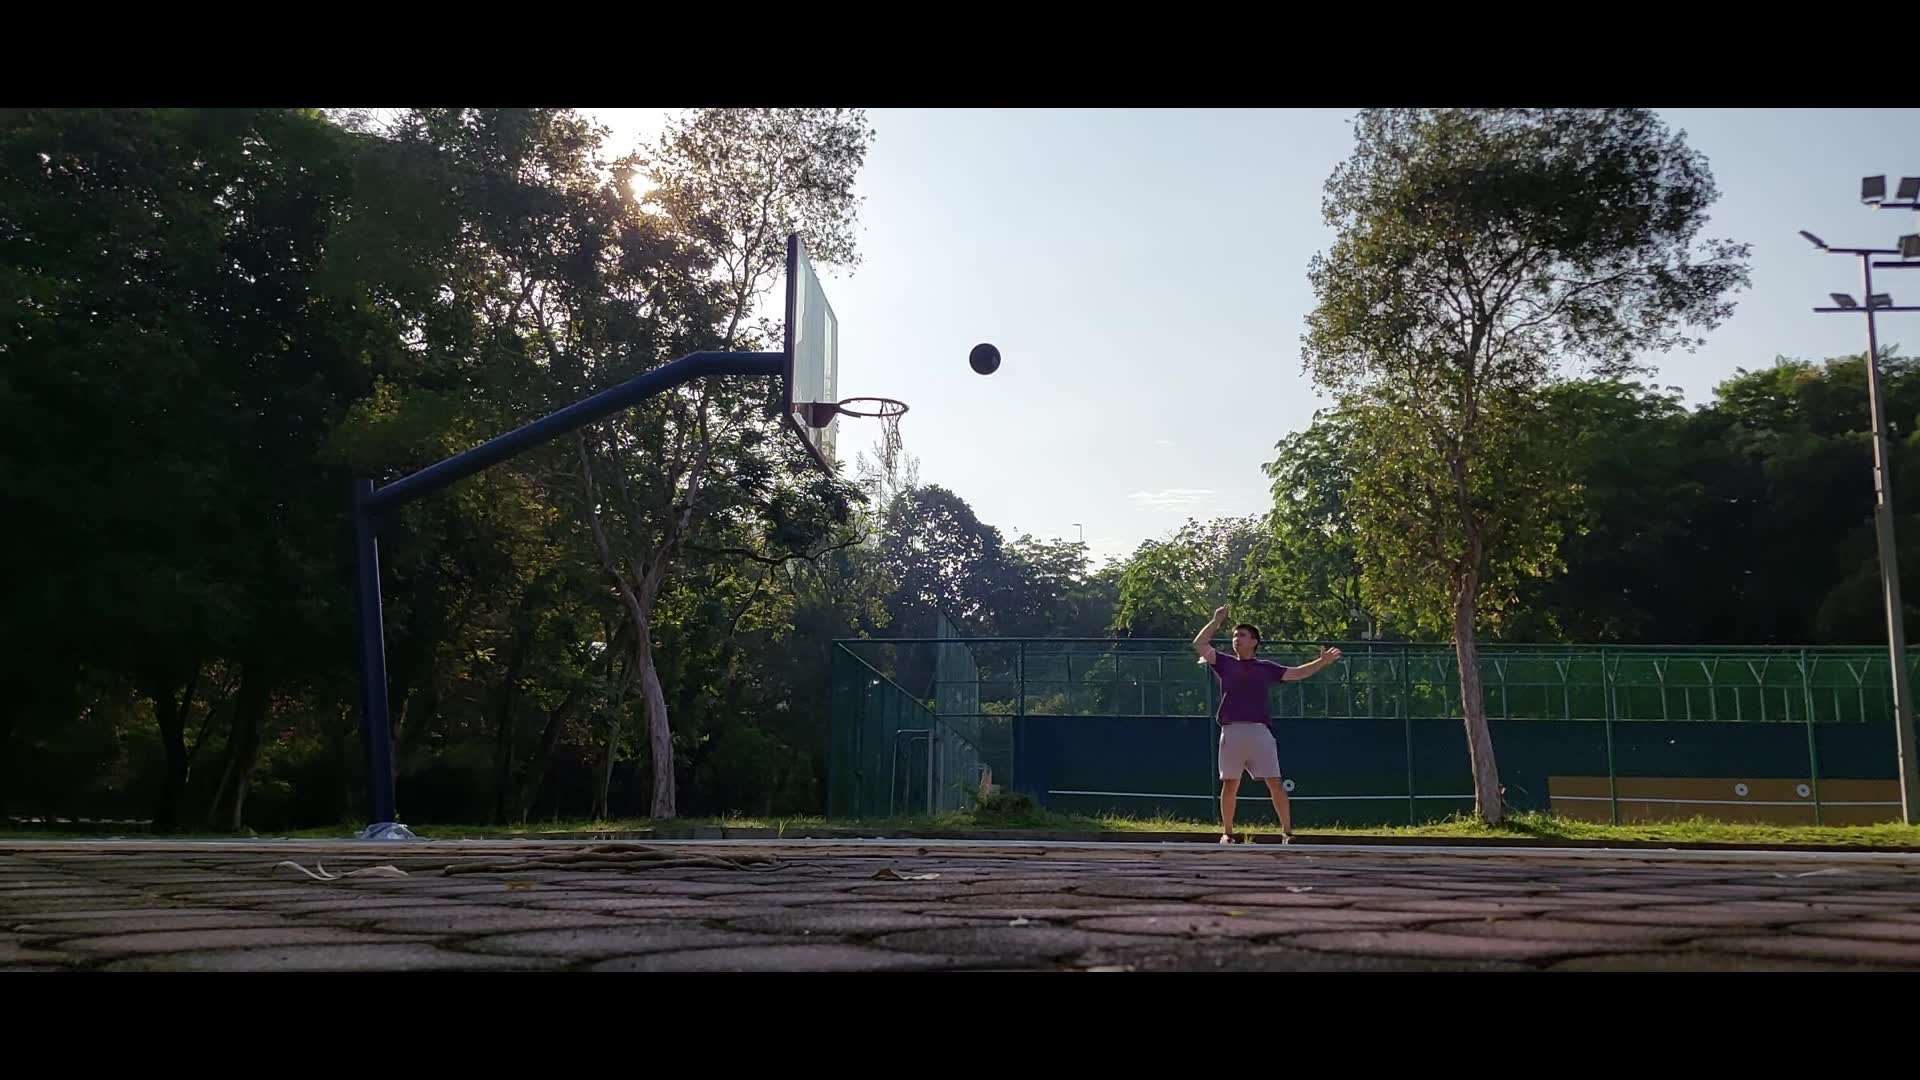Basketball: (955, 334, 1010, 378)
